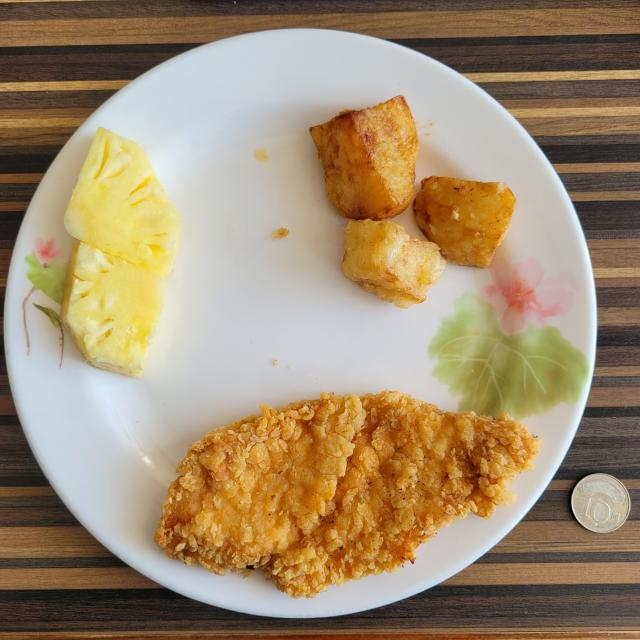coin: (571, 474, 630, 532)
fried chicken cutlet: (155, 391, 540, 598)
fried potato: (310, 96, 515, 308)
pineapple: (60, 128, 182, 378)
